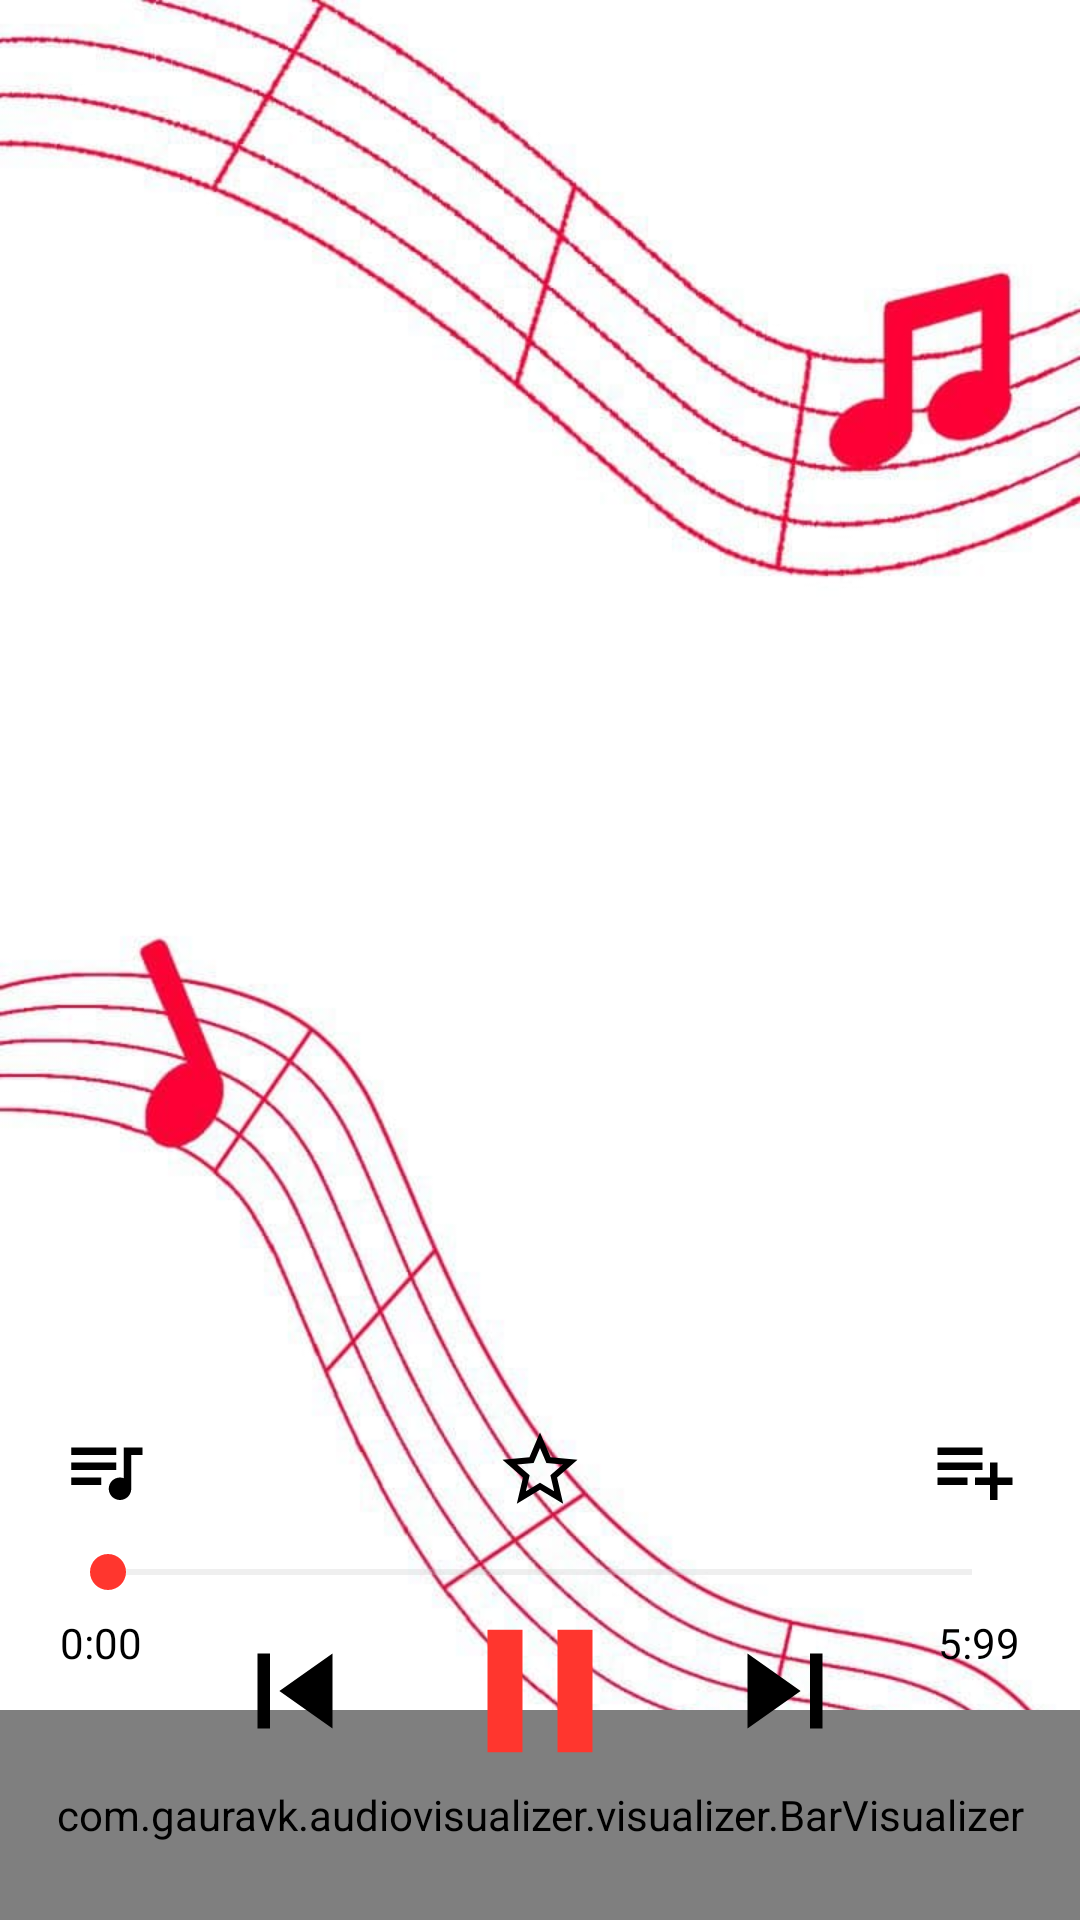

Icons on this 1080px×1920px Android screen, each with the point to tap as (x=x, y=y):
next: (x=785, y=1691)
pause: (x=540, y=1691)
playlist add: (x=975, y=1473)
prev: (x=295, y=1691)
queue: (x=107, y=1473)
